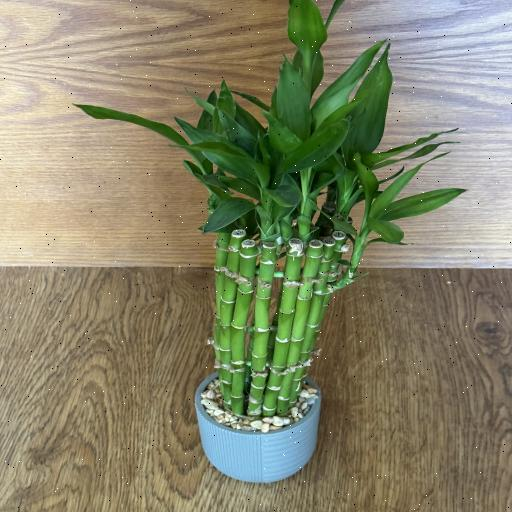Plant Pot: (187, 365, 324, 480)
